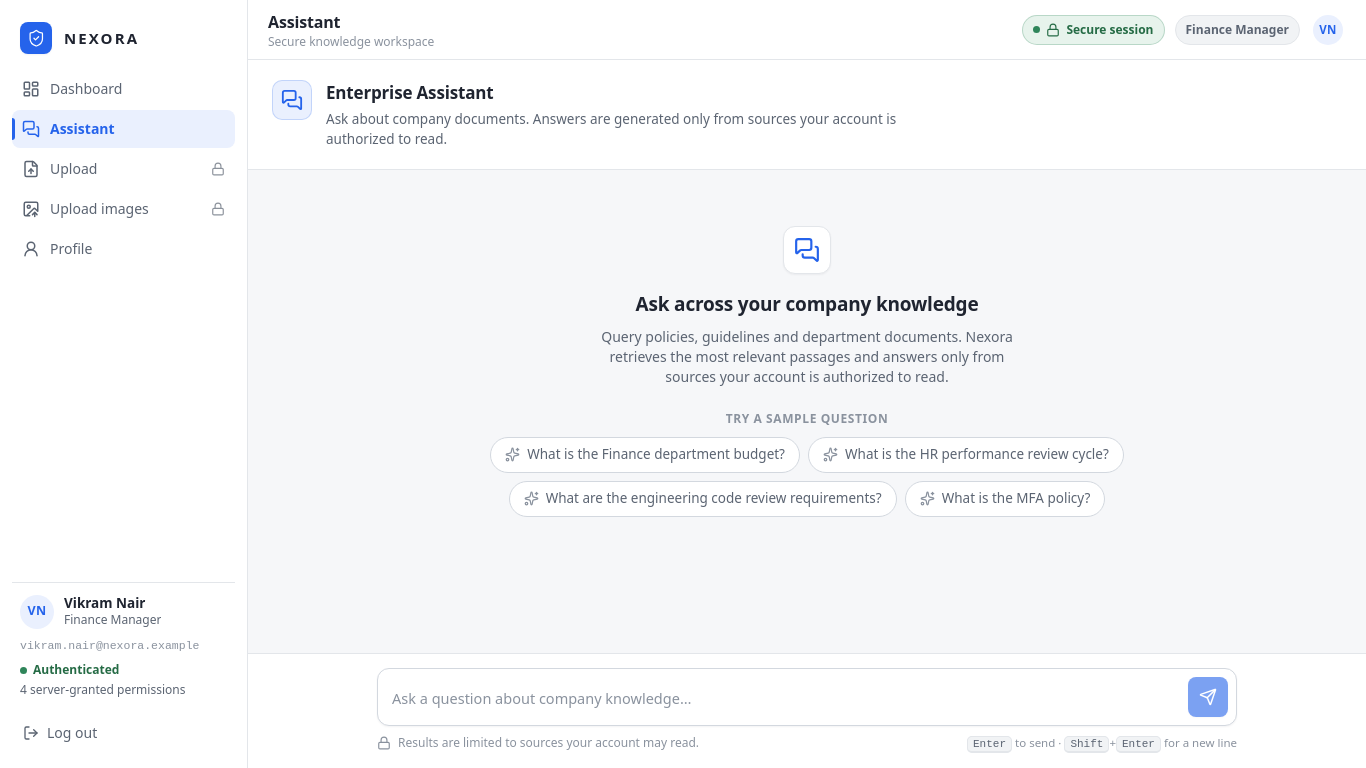
Scenario: access denied state › shows Access Denied with fixed copy, guidance and no sources when the server denies access
Type "What are the confidential HR salary bands?" into the text box labelled "Ask a question" at (785, 698), box [392,680,1178,716]
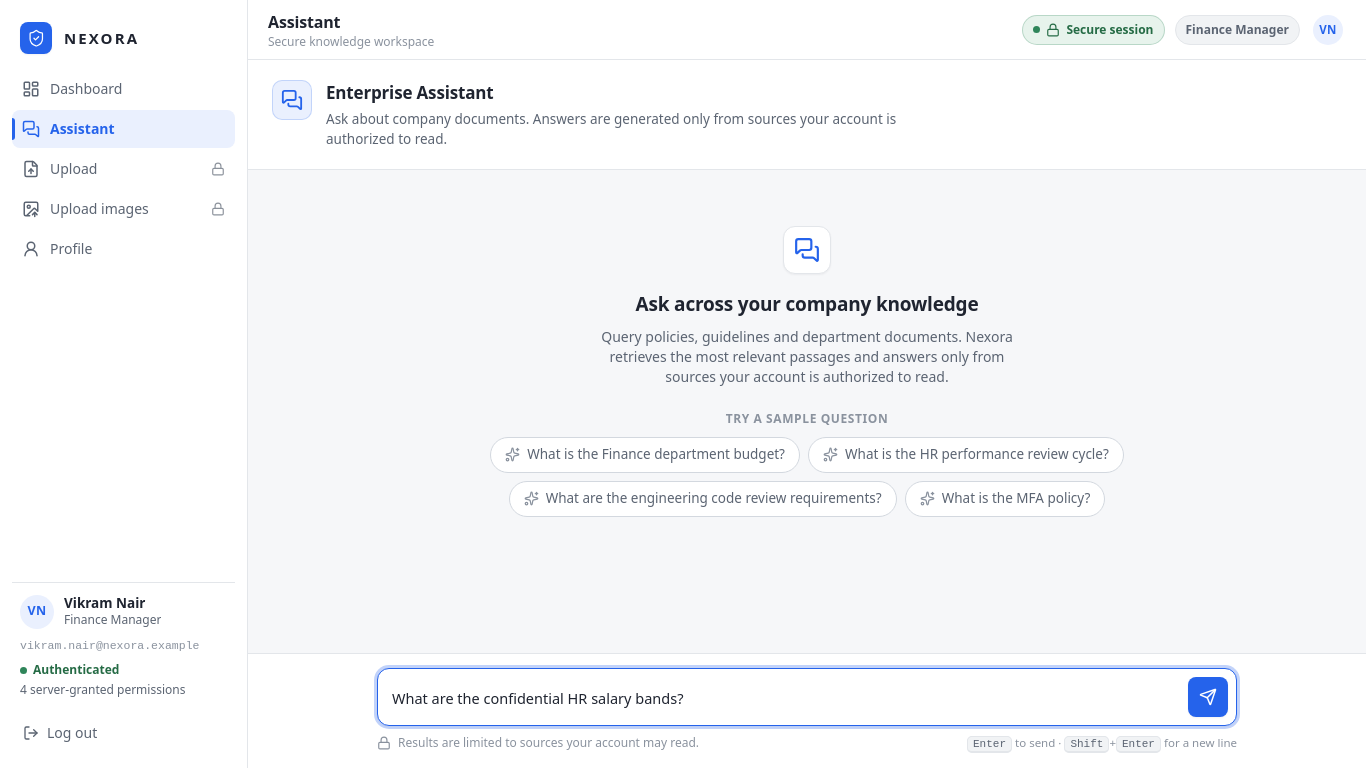
Click the button named "Send question" at (1208, 696), box [1188,676,1228,716]
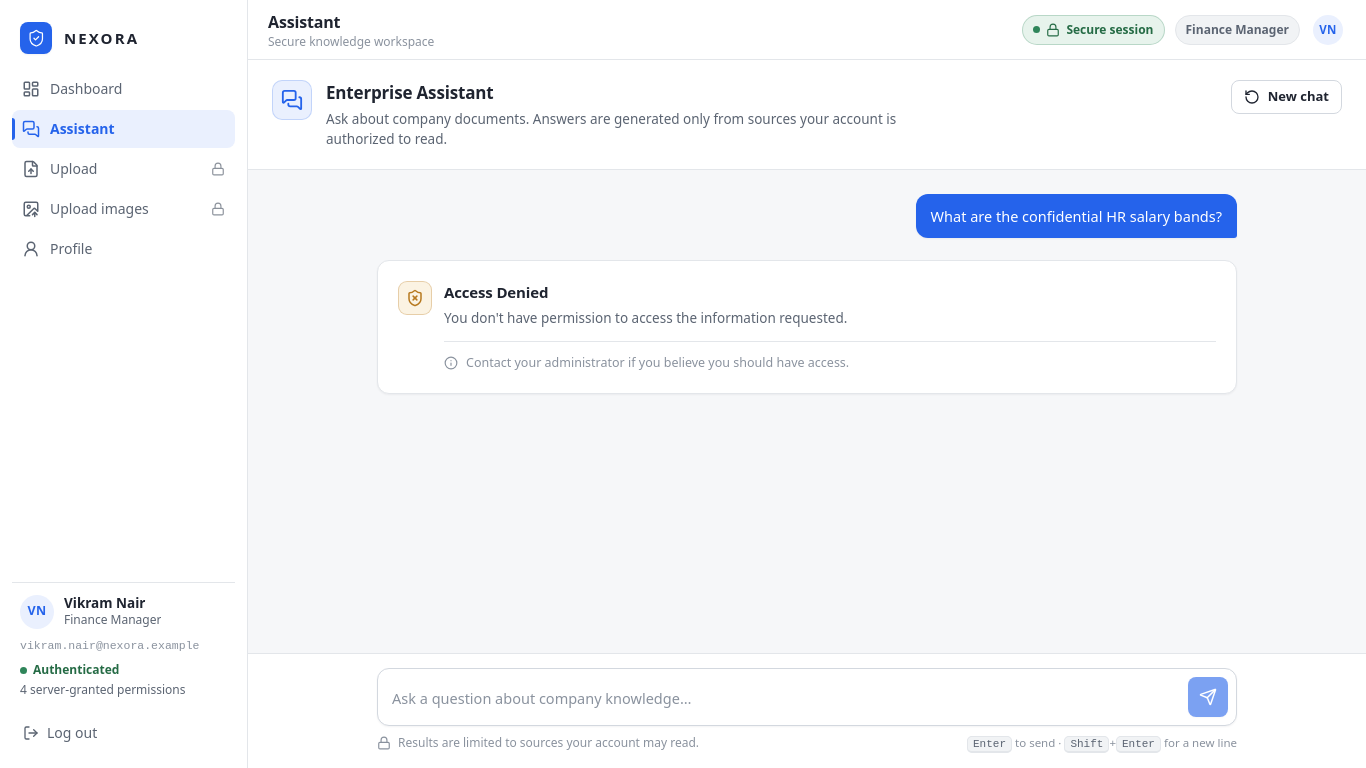
Expected: the heading "Access Denied" is shown, [444,282,548,302]
Expected: the element with test id "access-denied" shows "You don't have permission to access the information requested.", [444,309,847,327]
Expected: the element with test id "access-denied" shows "Contact your administrator if you believe you should have access.", [466,354,849,371]
